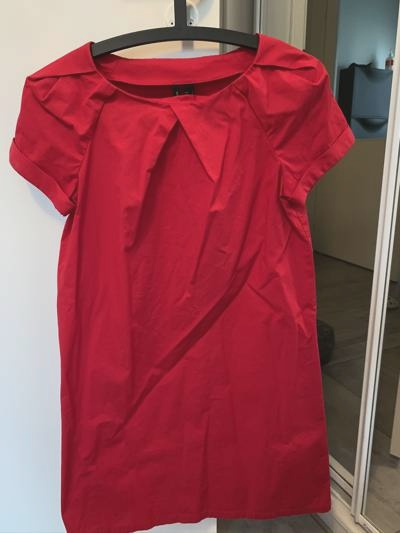Dress: (3, 23, 364, 529)
